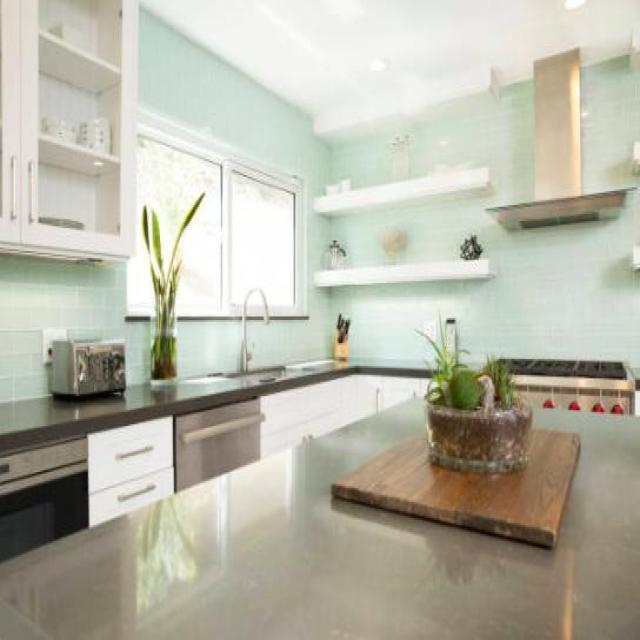dishwasher: (174, 396, 262, 490)
